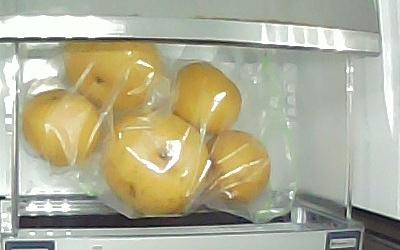pear_vinyl: (101, 109, 210, 219), (64, 41, 163, 111), (23, 88, 101, 167), (202, 130, 271, 208), (168, 61, 243, 132)
